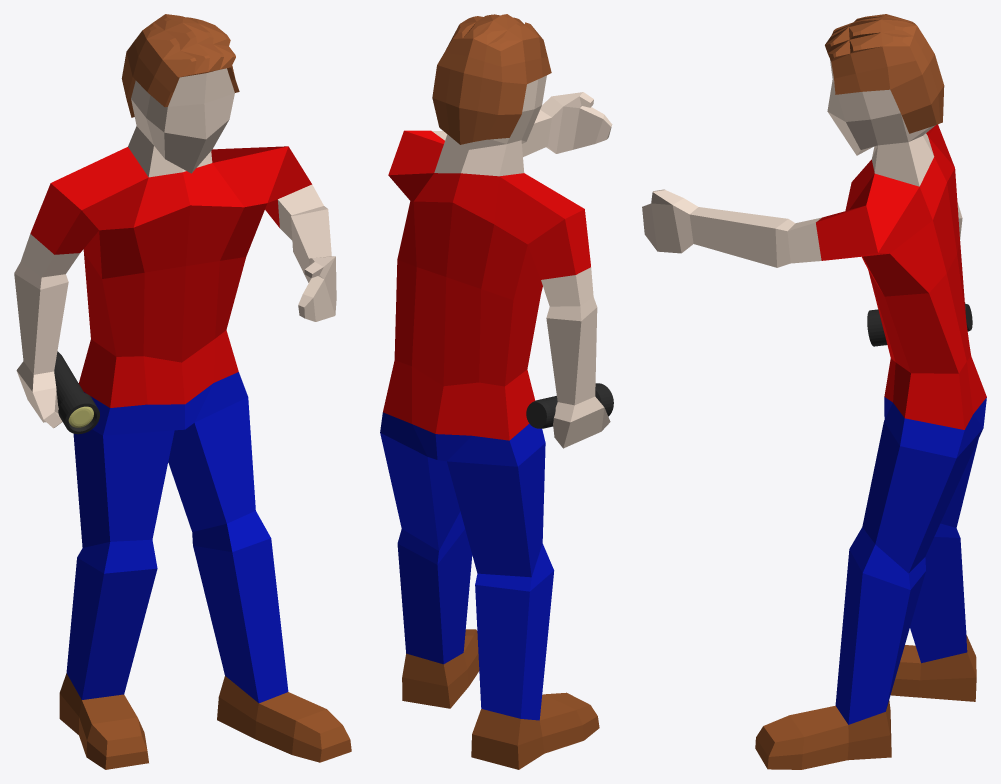
Rendered from Human_grabbing_32.fbx.
3 views of the same model, side by side, from view 1: azimuth 30°, elevation 25°; view 2: azimuth 150°, elevation 25°; view 3: azimuth 270°, elevation 25° (orthographic). The views are drawn at different scales.
Parts seen in each view (by area): view 1: Person.003, Cylinder.002; view 2: Person.003, Cylinder.002; view 3: Person.003, Cylinder.002.
Part boxes in pixels (x1=…): Person.003: x1=14, y1=14, x2=351, y2=769; Cylinder.002: x1=54, y1=351, x2=99, y2=434; Person.003: x1=380, y1=14, x2=612, y2=769; Cylinder.002: x1=526, y1=383, x2=613, y2=428; Person.003: x1=642, y1=14, x2=986, y2=769; Cylinder.002: x1=867, y1=303, x2=972, y2=346.
Size of the model in its own units: 0.5567 by 1.56 by 0.7003.
